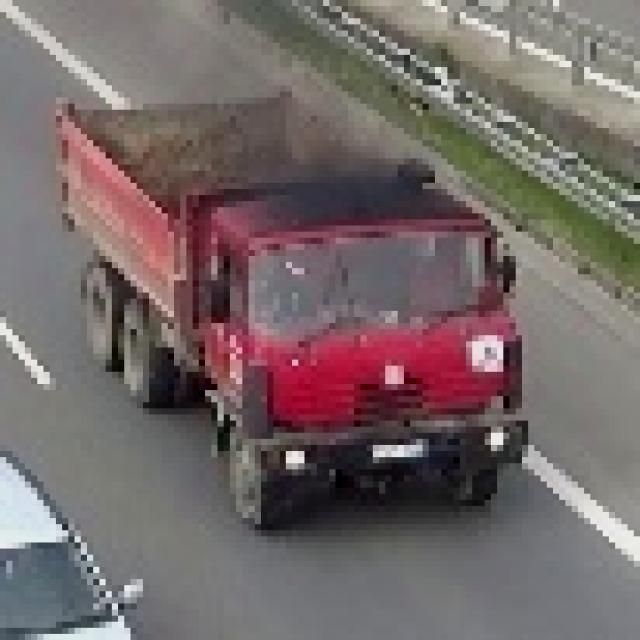truck: (45, 81, 517, 538)
